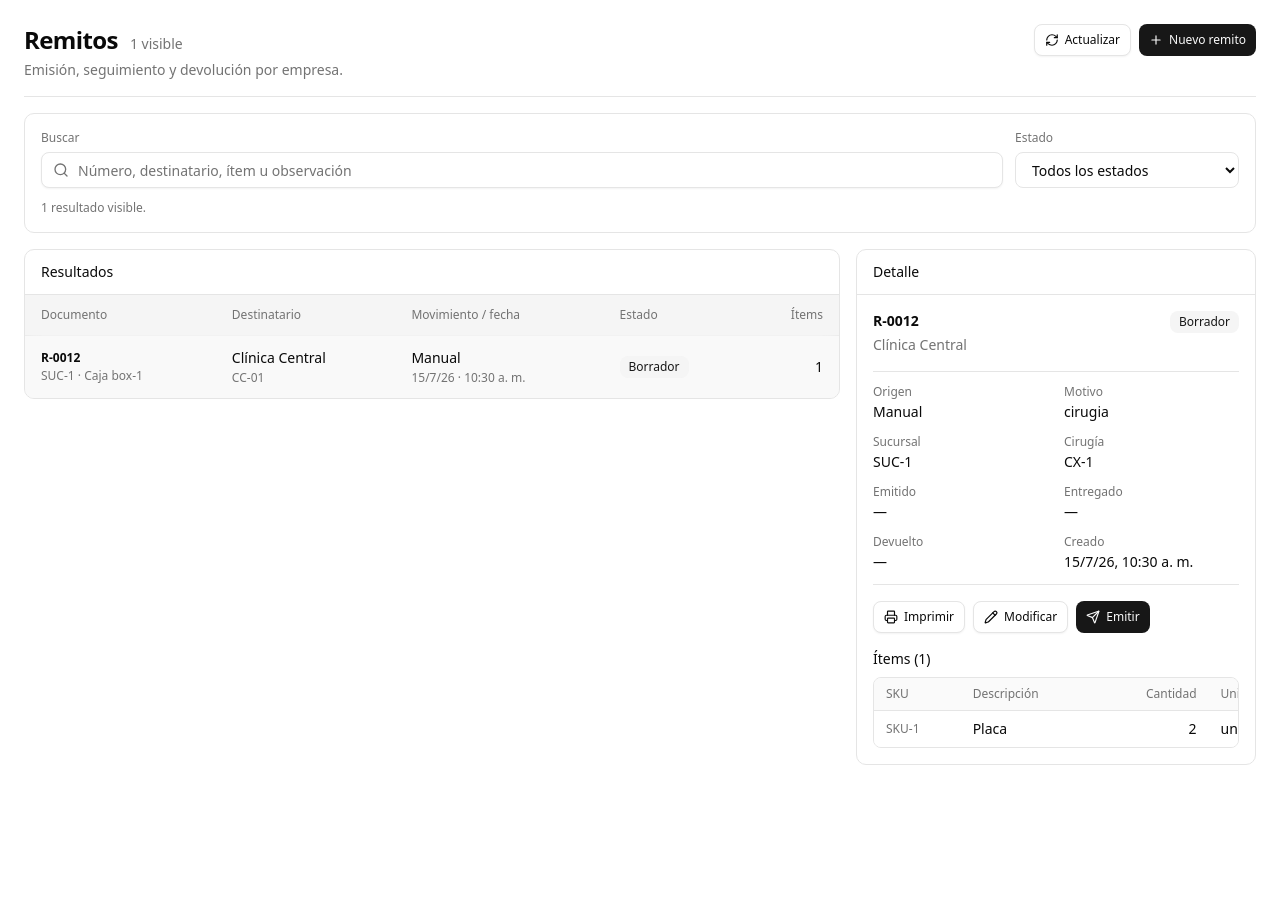
Scenario: RemitosPage › filtra localmente y permite limpiar sin cambiar el contrato del hook
This screenshot has width=1280, height=900.
Type "inexistente" into the field with placeholder "Número, destinatario, ítem u observación". click: (522, 170)
box: x1=41 y1=152 x2=1003 y2=188
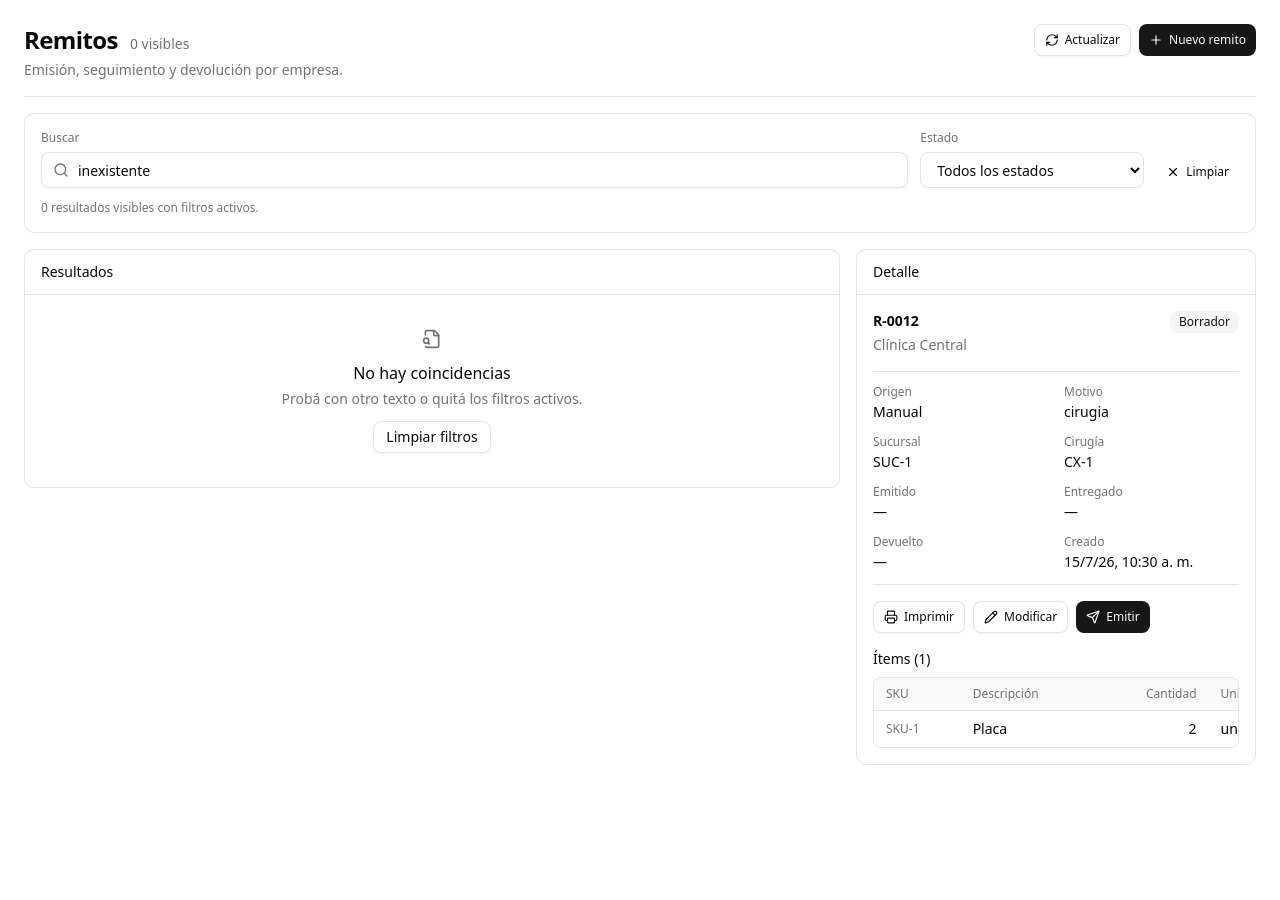
Expected: the text "No hay coincidencias" is shown, x1=353 y1=362 x2=511 y2=384
Click the button "Limpiar filtros". click: (432, 437)
box: x1=373 y1=421 x2=491 y2=453
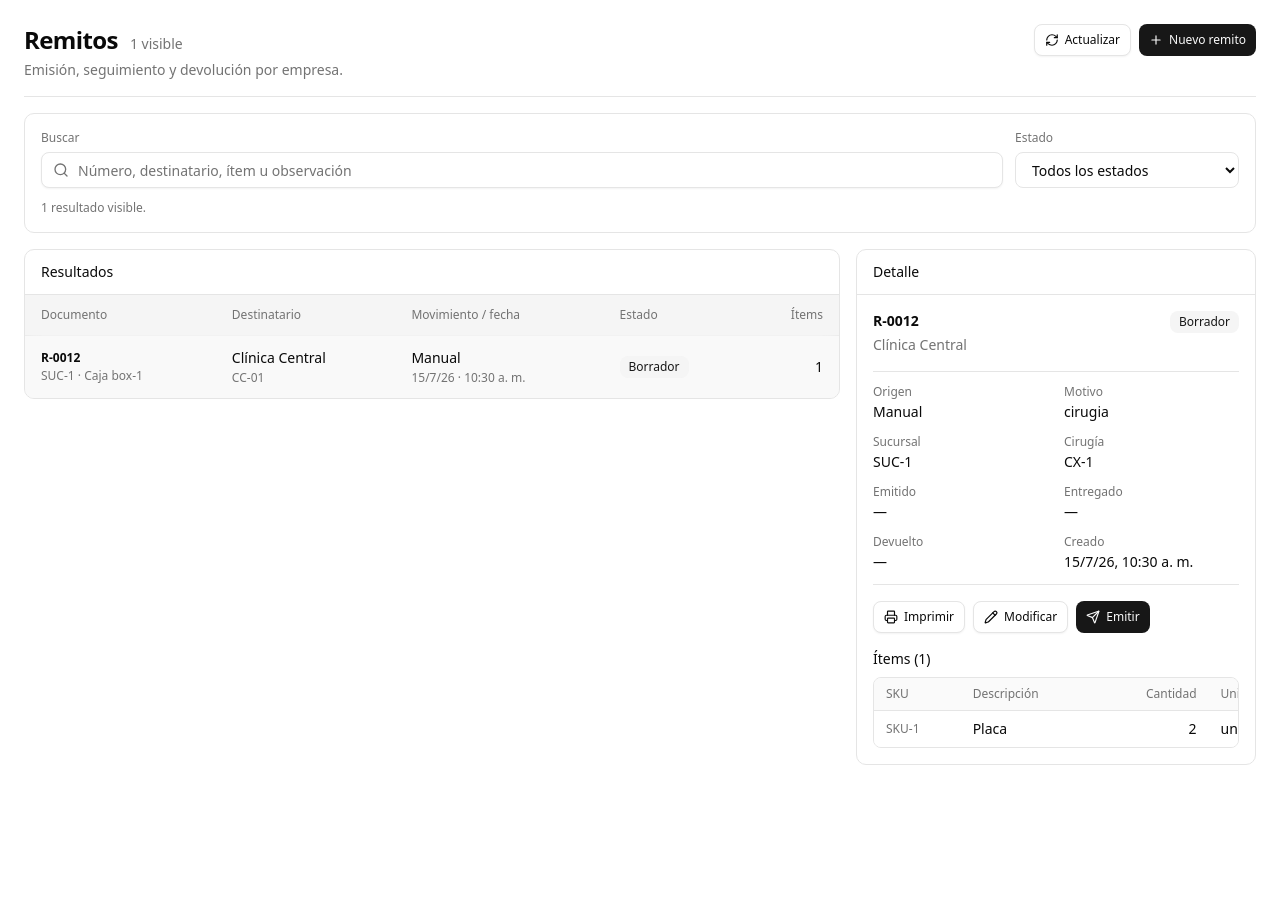
Expected: the text "Clínica Central" is shown 2 times, x1=232 y1=348 x2=326 y2=367; x1=873 y1=335 x2=967 y2=355
